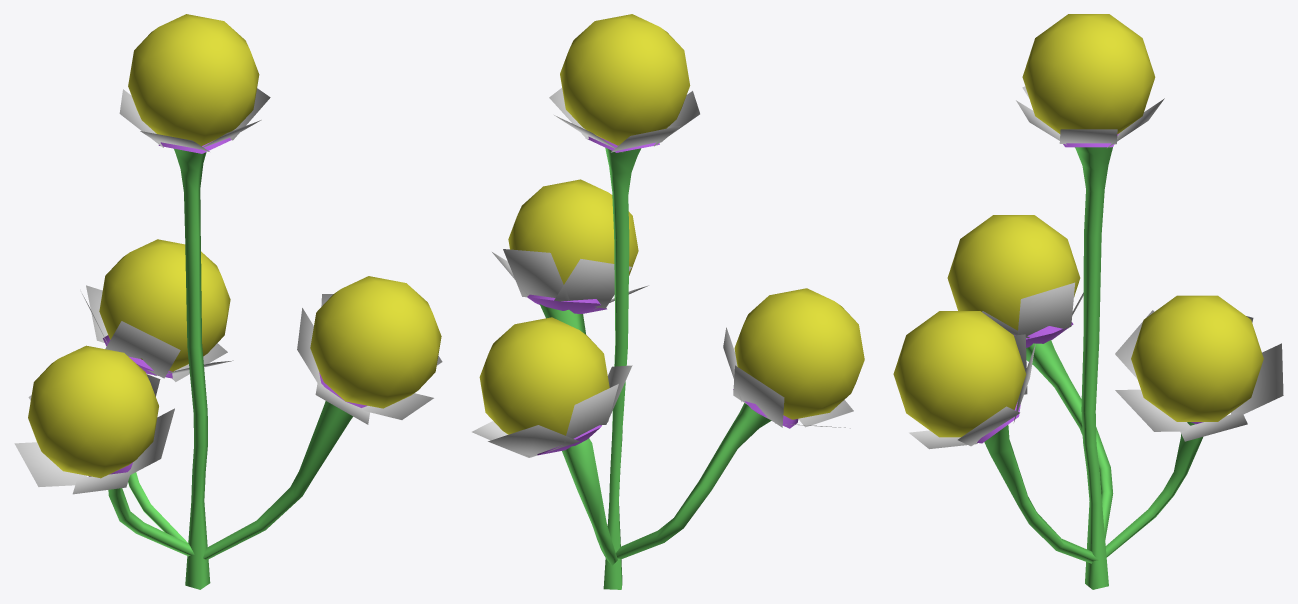
Rendered from BlobFlower_Paint.fbx.
3 renders of one model, left to right at view 1: azimuth 30°, elevation 25°; view 2: azimuth 150°, elevation 25°; view 3: azimuth 270°, elevation 25°, orthographic.
Visible parts, largest first — view 1: Icosphere.000; view 2: Icosphere.000; view 3: Icosphere.000.
Part boxes in pixels (x1,y1,x2,y2): Icosphere.000: (14,14,442,589); Icosphere.000: (472,14,864,589); Icosphere.000: (893,14,1283,589).
Size of the model in its own units: 0.5812 by 0.8428 by 0.5278.
